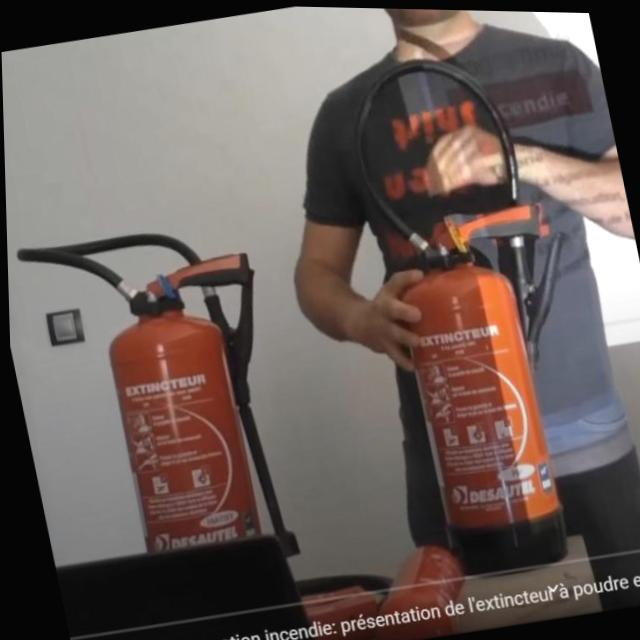FireExtinguisher: (326, 23, 629, 593), (7, 199, 319, 601)
